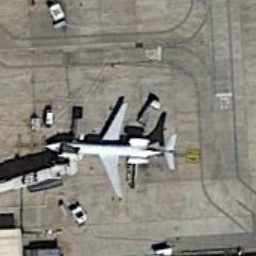Airplane: (39, 96, 190, 206)
